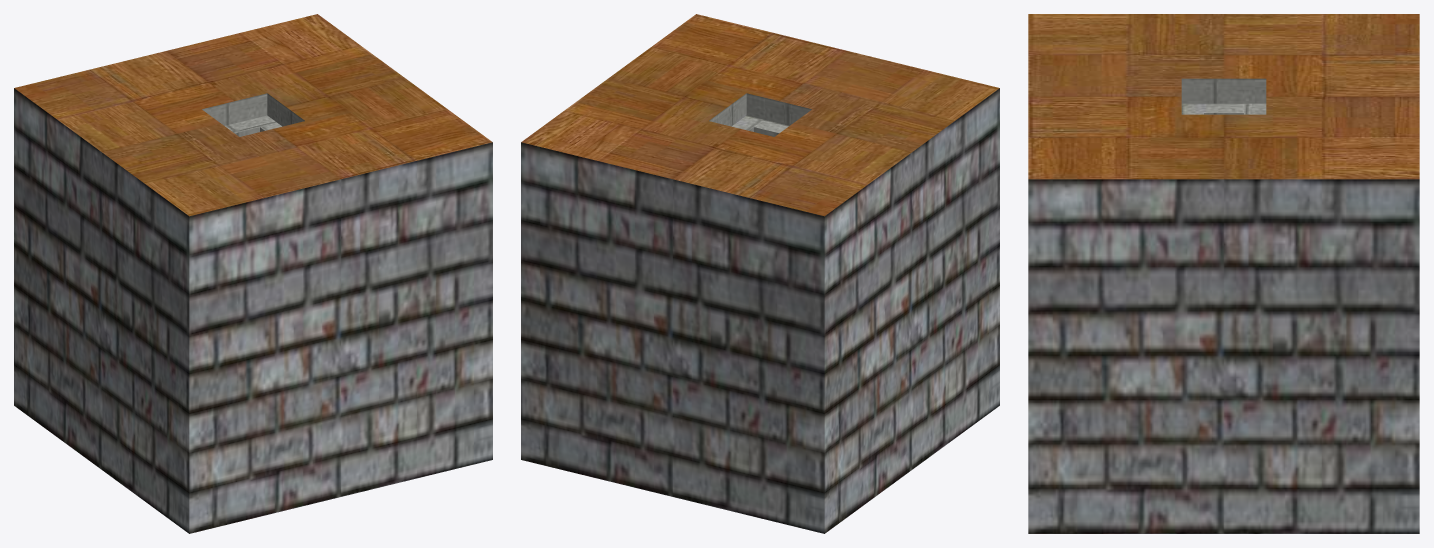
The model's file is portcul_recep.obj.
3 renders of one model, left to right at view 1: azimuth 30°, elevation 25°; view 2: azimuth 150°, elevation 25°; view 3: azimuth 270°, elevation 25°, orthographic. The views are drawn at different scales.
Parts seen in each view (by area): view 1: Mesh1 Group1 Model, Mesh3 Group3 Model, Mesh2 Group2 Model; view 2: Mesh1 Group1 Model, Mesh3 Group3 Model, Mesh2 Group2 Model; view 3: Mesh1 Group1 Model, Mesh3 Group3 Model, Mesh2 Group2 Model.
Boxes of the visible parts, x1=… form: Mesh1 Group1 Model: x1=14, y1=88, x2=492, y2=533; Mesh3 Group3 Model: x1=14, y1=14, x2=492, y2=216; Mesh2 Group2 Model: x1=202, y1=93, x2=304, y2=136; Mesh1 Group1 Model: x1=521, y1=88, x2=999, y2=533; Mesh3 Group3 Model: x1=521, y1=14, x2=999, y2=216; Mesh2 Group2 Model: x1=709, y1=93, x2=811, y2=136; Mesh1 Group1 Model: x1=1028, y1=179, x2=1419, y2=533; Mesh3 Group3 Model: x1=1028, y1=14, x2=1419, y2=179; Mesh2 Group2 Model: x1=1181, y1=78, x2=1266, y2=114.
Size of the model in its own units: 1 by 1 by 1.
Materials: 3 (3 with a texture image).
